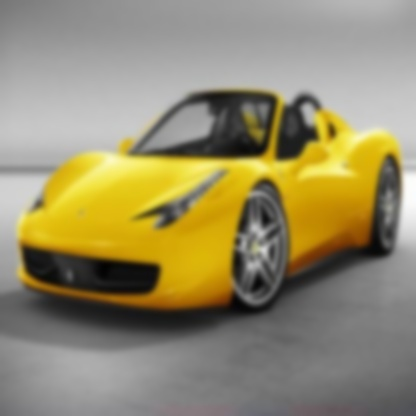Vehicle: (16, 84, 408, 314)
